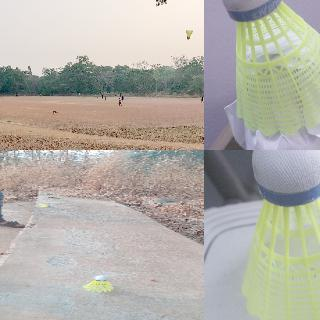shuttlecock: (218, 0, 319, 136), (239, 150, 319, 319), (83, 276, 114, 292), (185, 29, 192, 39), (38, 203, 52, 206)
